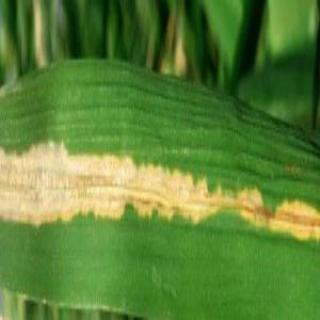Hawar-Daun: (2, 139, 134, 222), (77, 144, 213, 223), (21, 200, 137, 237), (206, 179, 270, 232), (268, 197, 319, 245)
